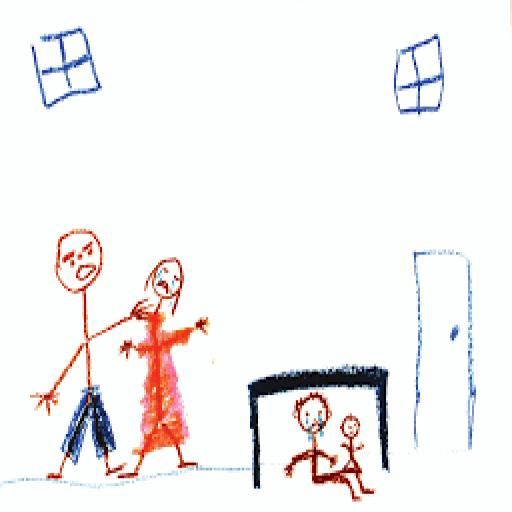person: (34, 224, 130, 492), (119, 254, 214, 493), (279, 382, 354, 501), (339, 396, 384, 502)
